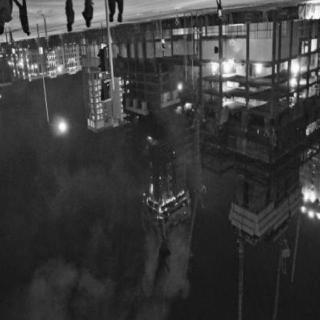Fire: (139, 172, 191, 214), (175, 102, 193, 115), (145, 133, 159, 149)
Smoke: (139, 214, 187, 298)
other: (300, 189, 319, 227), (56, 115, 70, 137), (56, 59, 66, 75), (222, 59, 232, 73), (210, 60, 218, 77), (291, 60, 299, 76), (290, 78, 296, 92), (17, 58, 25, 68), (8, 57, 12, 69), (227, 80, 233, 88), (218, 9, 222, 19), (34, 62, 38, 72)
